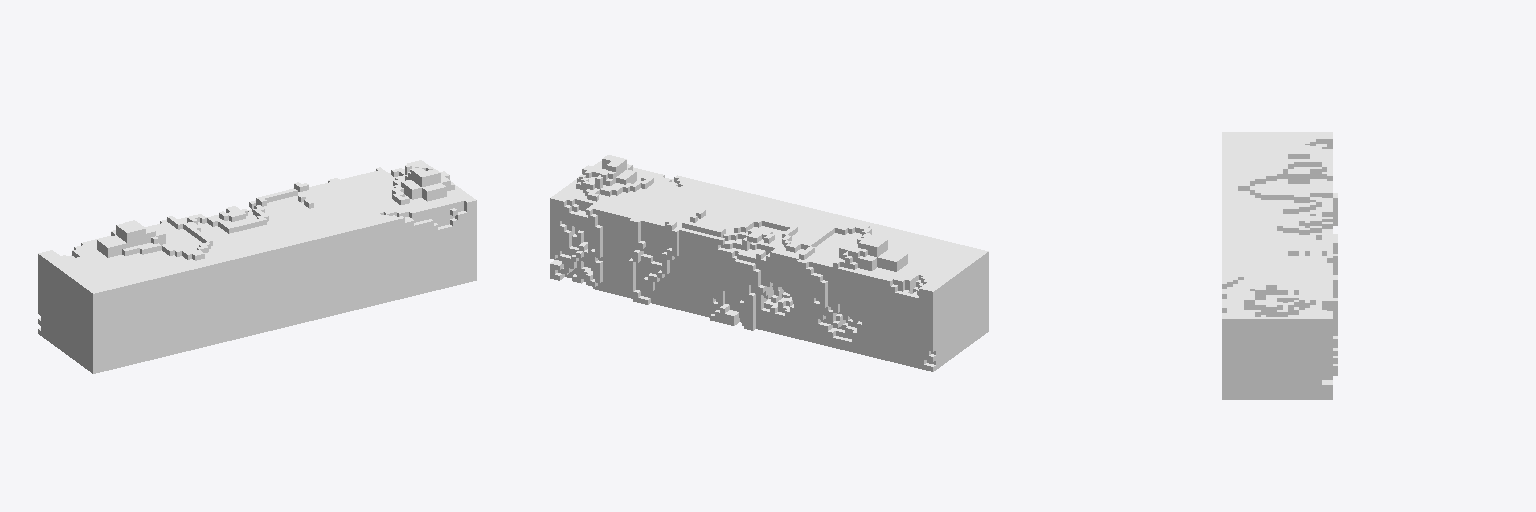
Rendered from Brick_ground.obj.
3 views of the same model, side by side, from view 1: azimuth 30°, elevation 25°; view 2: azimuth 150°, elevation 25°; view 3: azimuth 270°, elevation 25° (orthographic).
Parts seen in each view (by area): view 1: object 1; view 2: object 1; view 3: object 1.
Boxes of the visible parts, <box> form: object 1: <box>38,160,476,373</box>; object 1: <box>550,155,988,371</box>; object 1: <box>1222,132,1337,399</box>.
Bounding box in the file's own units: 8 × 2 × 2.1.